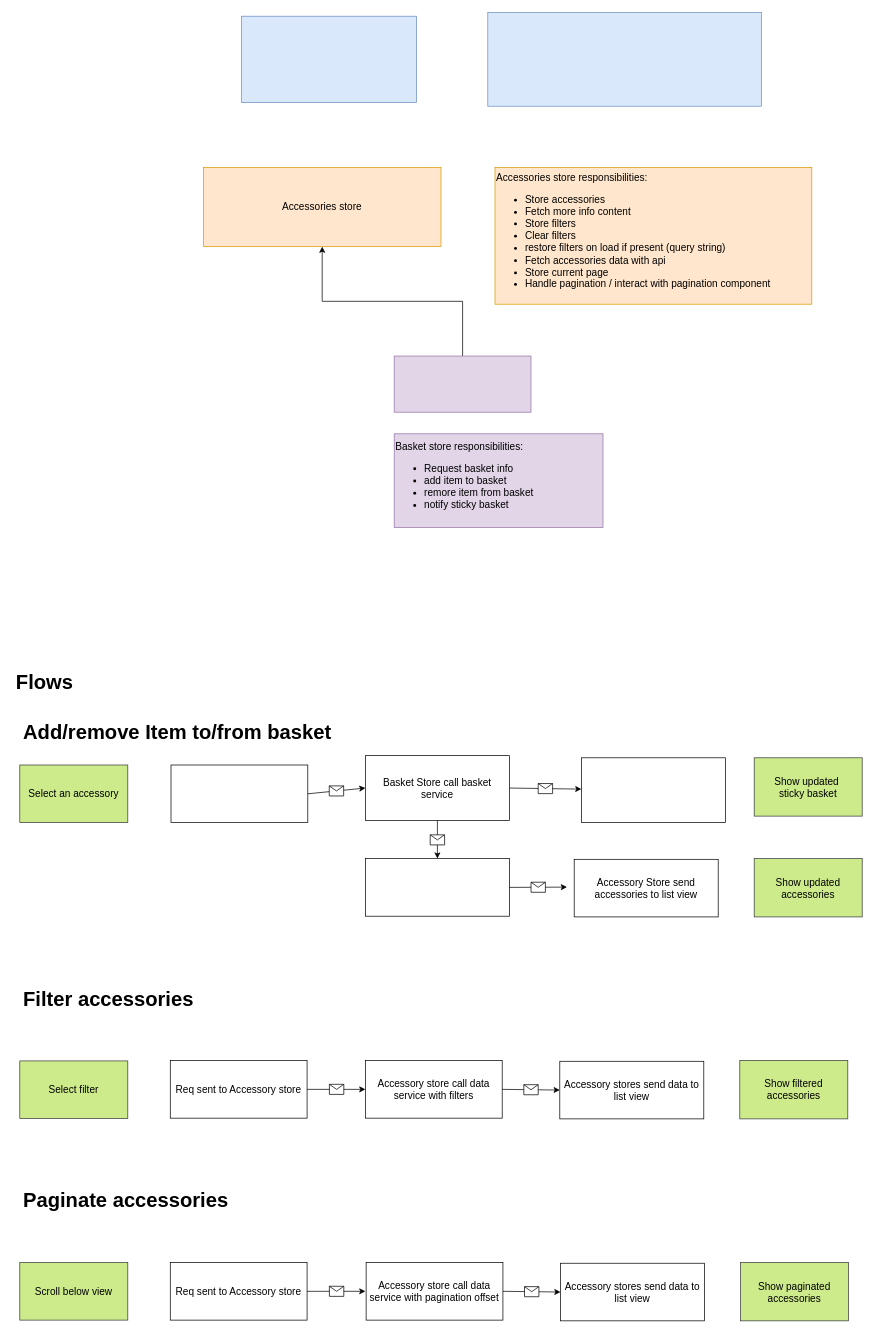
Some shapes in this 875 by 1333 pixel diagram are drawn without their labels. Here are the shapes that lost their labels. From the top down, the box of each, then its label:
(241, 15, 417, 103): Accessories page store (or main store)
(487, 12, 761, 106): Main store responsibilities: initialise stores notify page when ready to load
(393, 355, 531, 412): Basket store
(170, 764, 308, 823): Req add item to basket to Basket store
(581, 757, 725, 823): Basket Store notify Sticky basket
(365, 858, 509, 916): Basket Store send accessories req to Accessory Store
